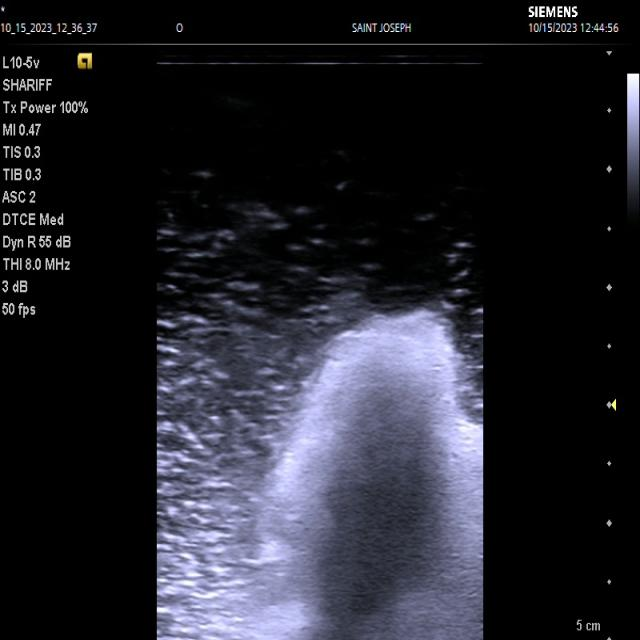tissue: (226, 310, 482, 640)
